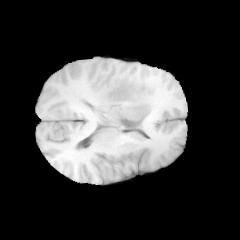glioma: (104, 81, 152, 123)
